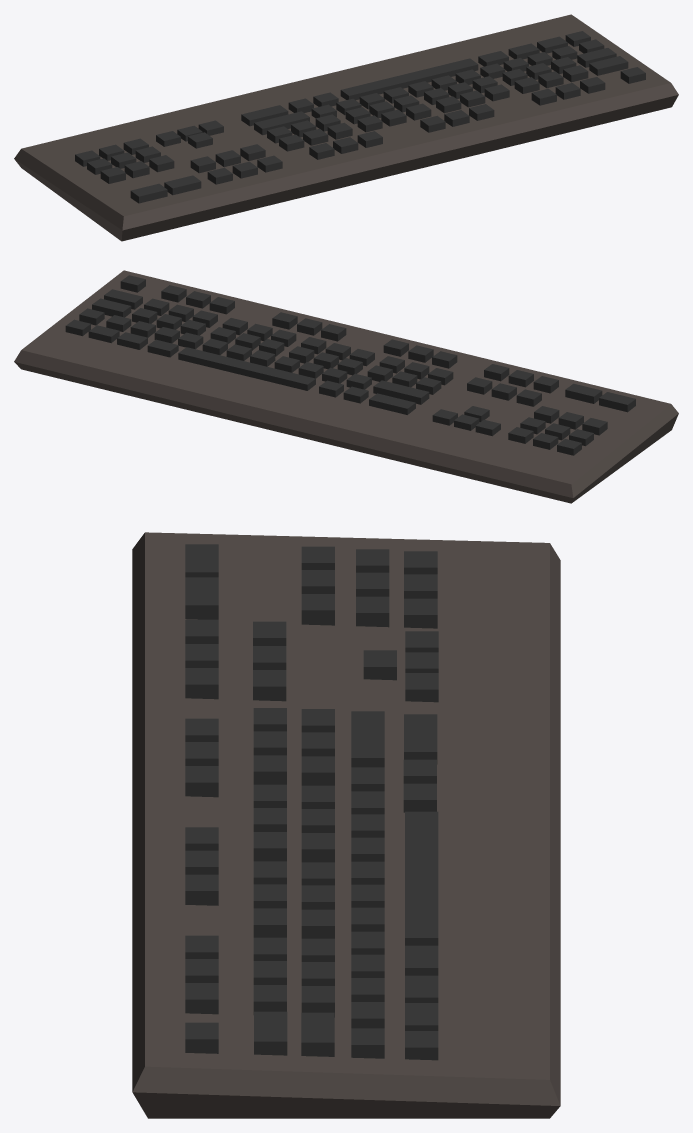
Rendered from Gaming Keyboard.fbx.
The picture shows the model from 3 angles, top to bottom: view 1: azimuth 30°, elevation 25°; view 2: azimuth 150°, elevation 25°; view 3: azimuth 270°, elevation 25°; orthographic projection. The views are drawn at different scales.
Visible parts, largest first — view 1: Gaming Keyboard; view 2: Gaming Keyboard; view 3: Gaming Keyboard.
Part boxes in pixels (left/top/right/bottom): Gaming Keyboard: left=14, top=14, right=678, bottom=241; Gaming Keyboard: left=14, top=270, right=678, bottom=503; Gaming Keyboard: left=132, top=532, right=560, bottom=1118.
Bounding box in the file's own units: 0.736 × 0.0397 × 0.2439.
